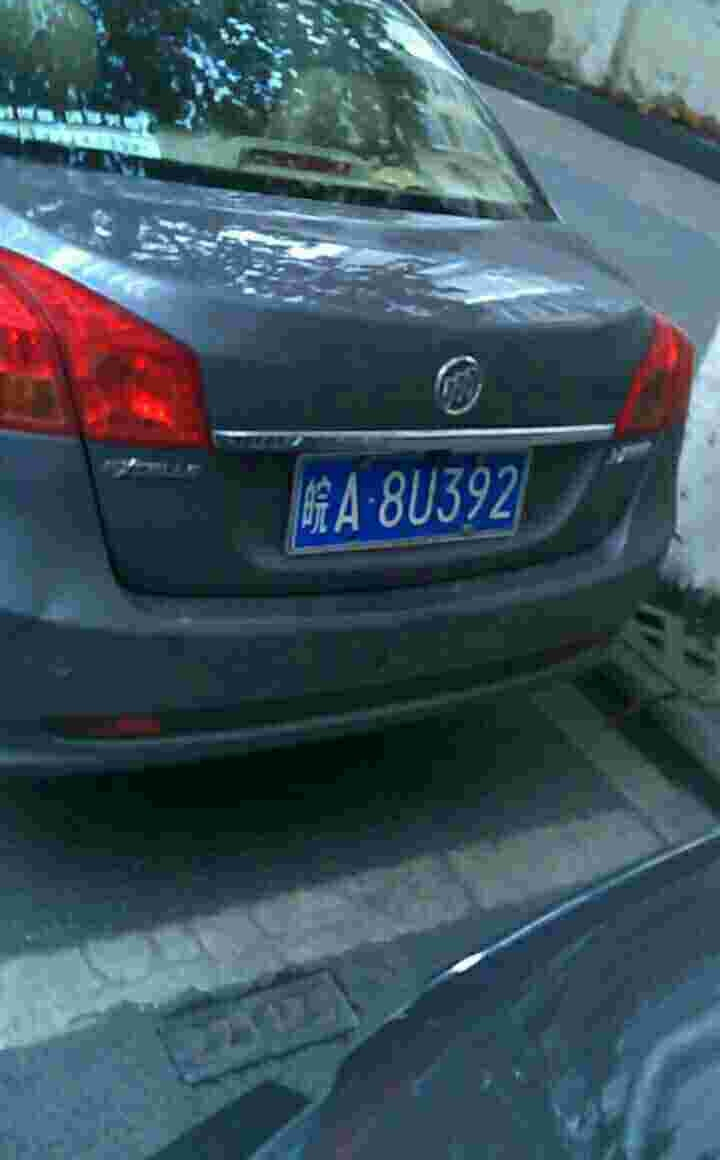license_plate: (296, 458, 527, 556)
